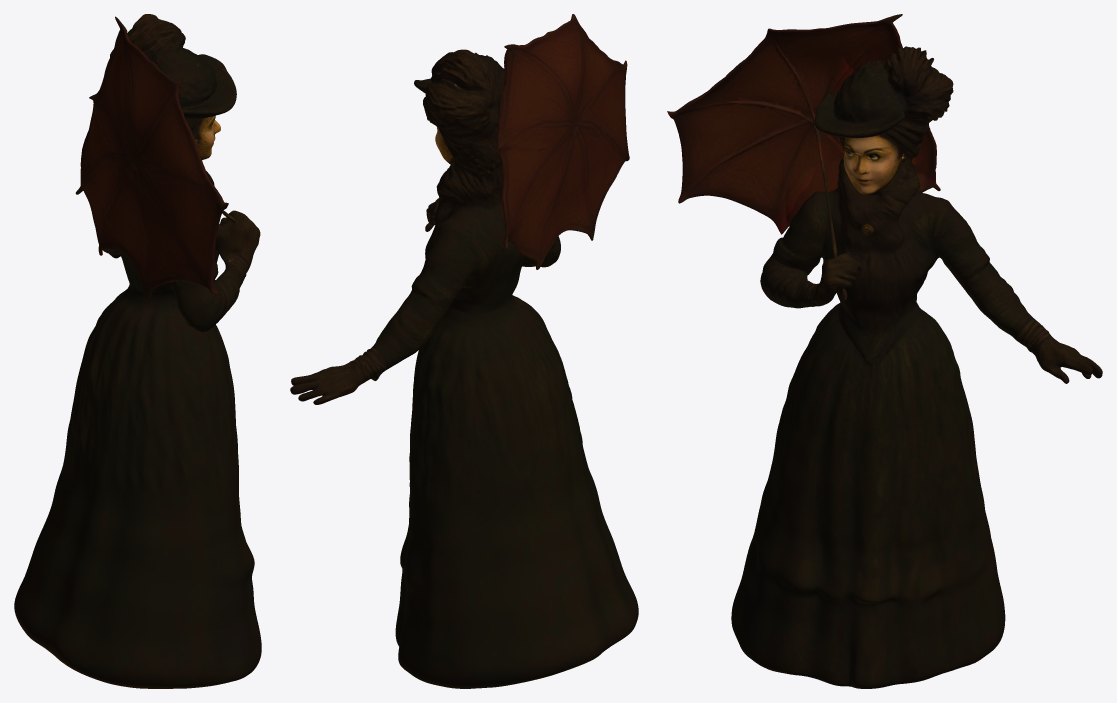
The model's file is mujer 1.fbx.
3 renders of one model, left to right at view 1: azimuth 30°, elevation 25°; view 2: azimuth 150°, elevation 25°; view 3: azimuth 270°, elevation 25°, orthographic.
Visible parts, largest first — view 1: tripo_node_0f8879cf; view 2: tripo_node_0f8879cf; view 3: tripo_node_0f8879cf.
Part boxes in pixels (box(x1,y1,x2,y2)): tripo_node_0f8879cf: box(14, 14, 261, 688); tripo_node_0f8879cf: box(290, 14, 638, 688); tripo_node_0f8879cf: box(667, 14, 1102, 688).
Size of the model in its own units: 0.3586 by 1 by 0.6321.
Materials: 1 (1 with a texture image).
